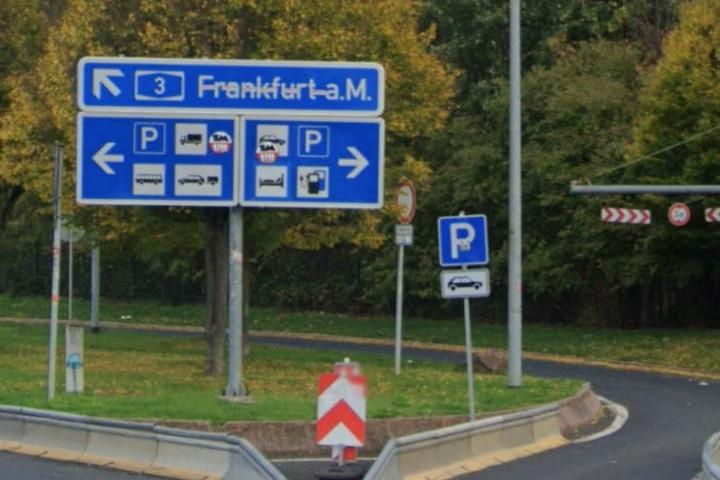traffic_sign: (438, 213, 489, 266), (394, 176, 416, 224)
